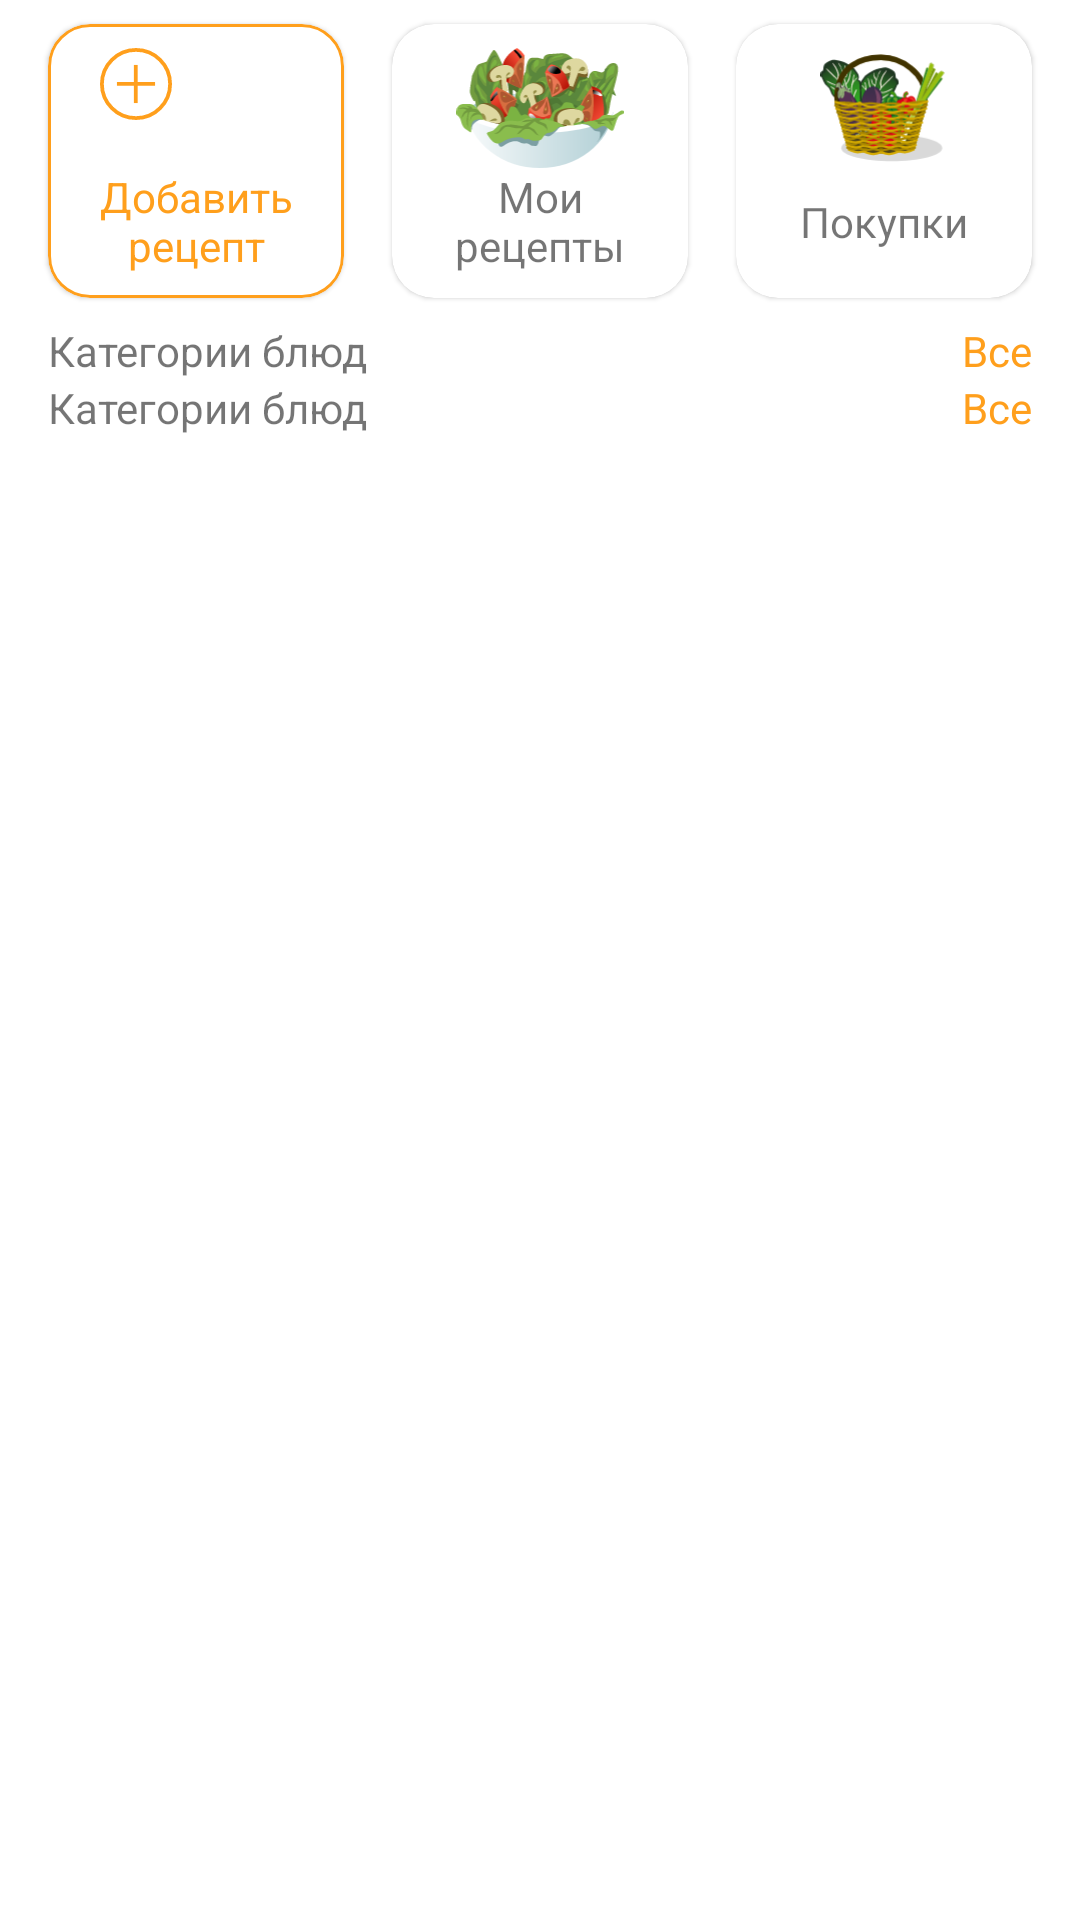

Named icons in this screenshot (1080×1920) and their centers, point (x, y):
add recipe: point (136, 84)
